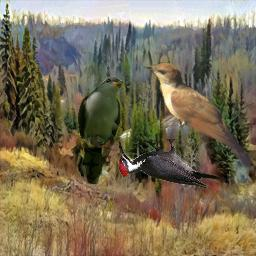Cuckoo: (144, 62, 250, 167), (77, 76, 124, 184)
Woodpecker: (118, 139, 220, 189)
